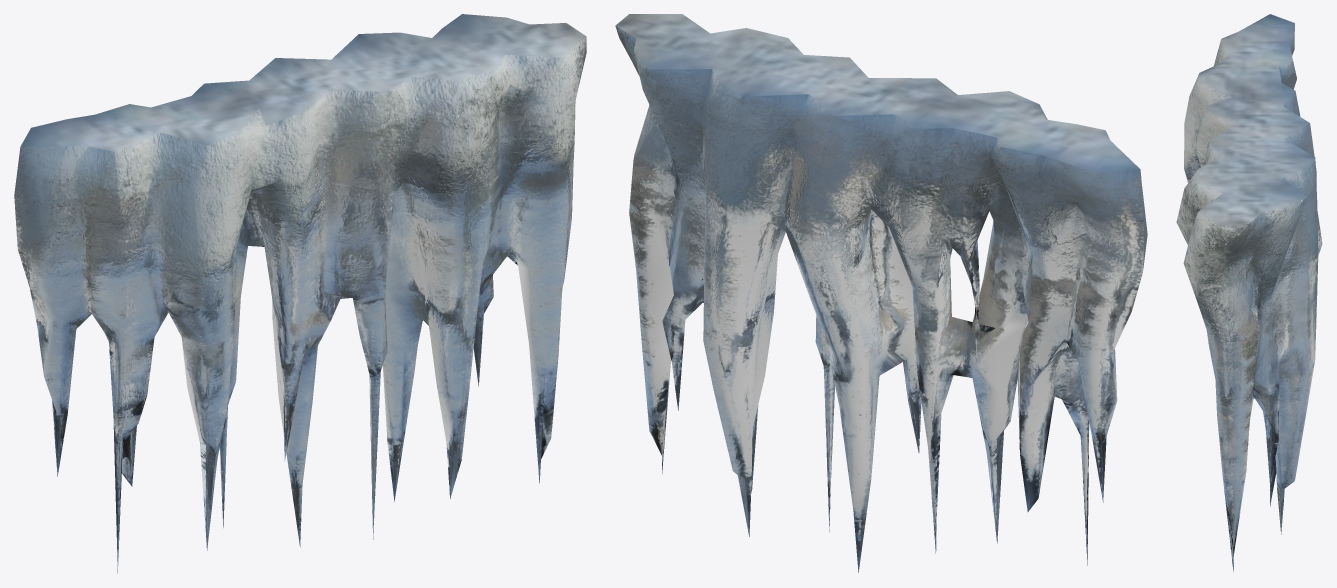
Rendered from icicle_01_baked.glb.
The picture shows the model from 3 angles, left to right: view 1: azimuth 30°, elevation 25°; view 2: azimuth 150°, elevation 25°; view 3: azimuth 270°, elevation 25°; orthographic projection. The views are drawn at different scales.
Parts seen in each view (by area): view 1: Low_0; view 2: Low_0; view 3: Low_0.
Part boxes in pixels (x1,y1,x2,y2): Low_0: (14,14,586,573); Low_0: (615,14,1147,572); Low_0: (1176,14,1322,572).
Bounding box in the file's own units: 2.14 × 1.77 × 0.6079.
Materials: 1 (1 with a texture image).
